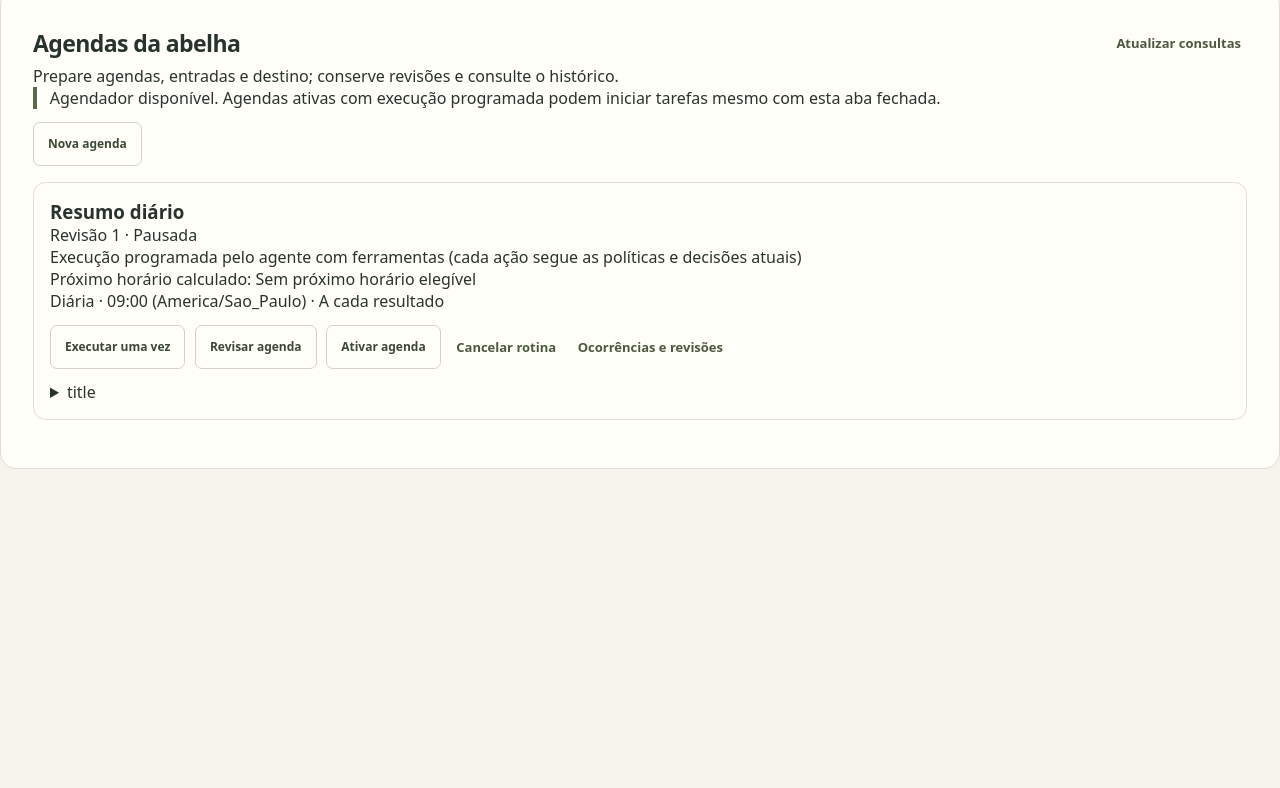
Test case: agent routine availability and consent › offers manual agent execution without a text resource in pt-BR
The width and height of the screenshot is (1280, 788).
Click the button "Executar uma vez".
click(118, 347)  # box [50,325,185,369]
(page scrolled)
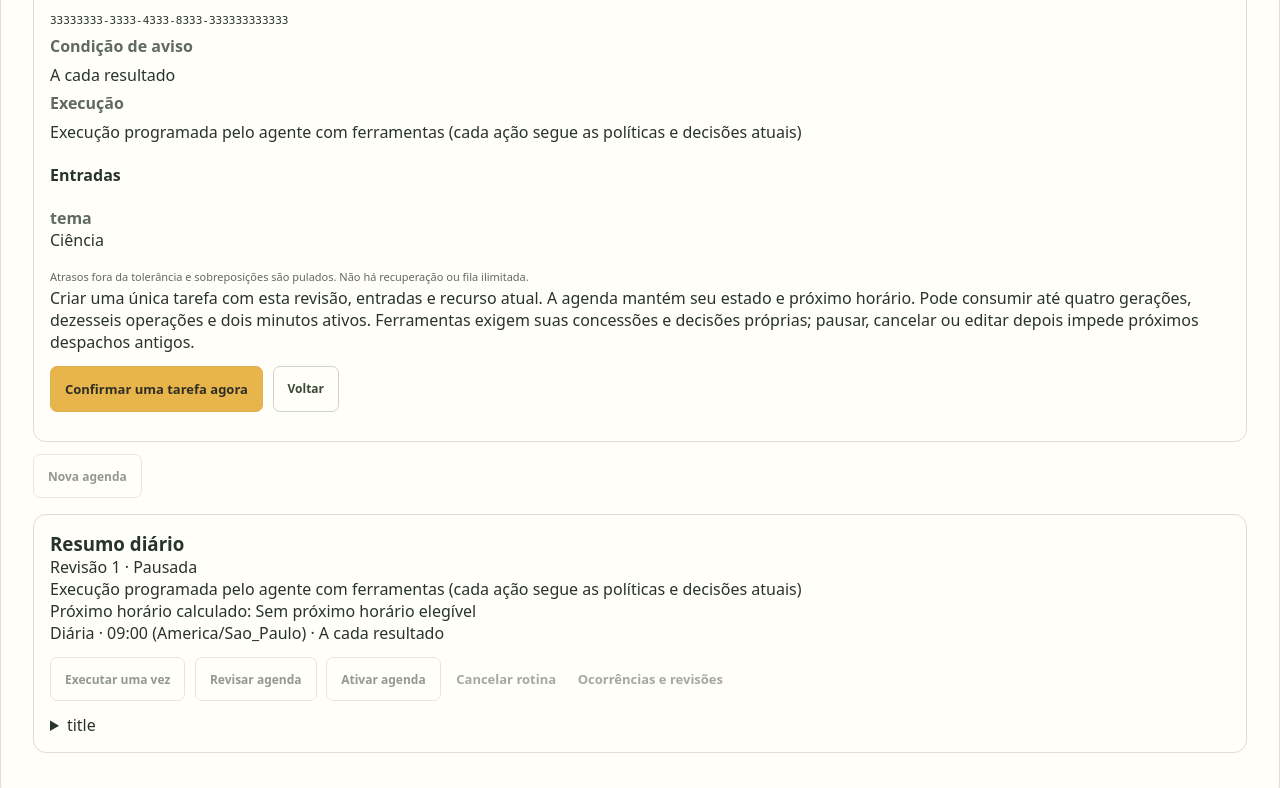
Result: the button "Confirmar uma tarefa agora" is enabled at [50,366,263,412]
